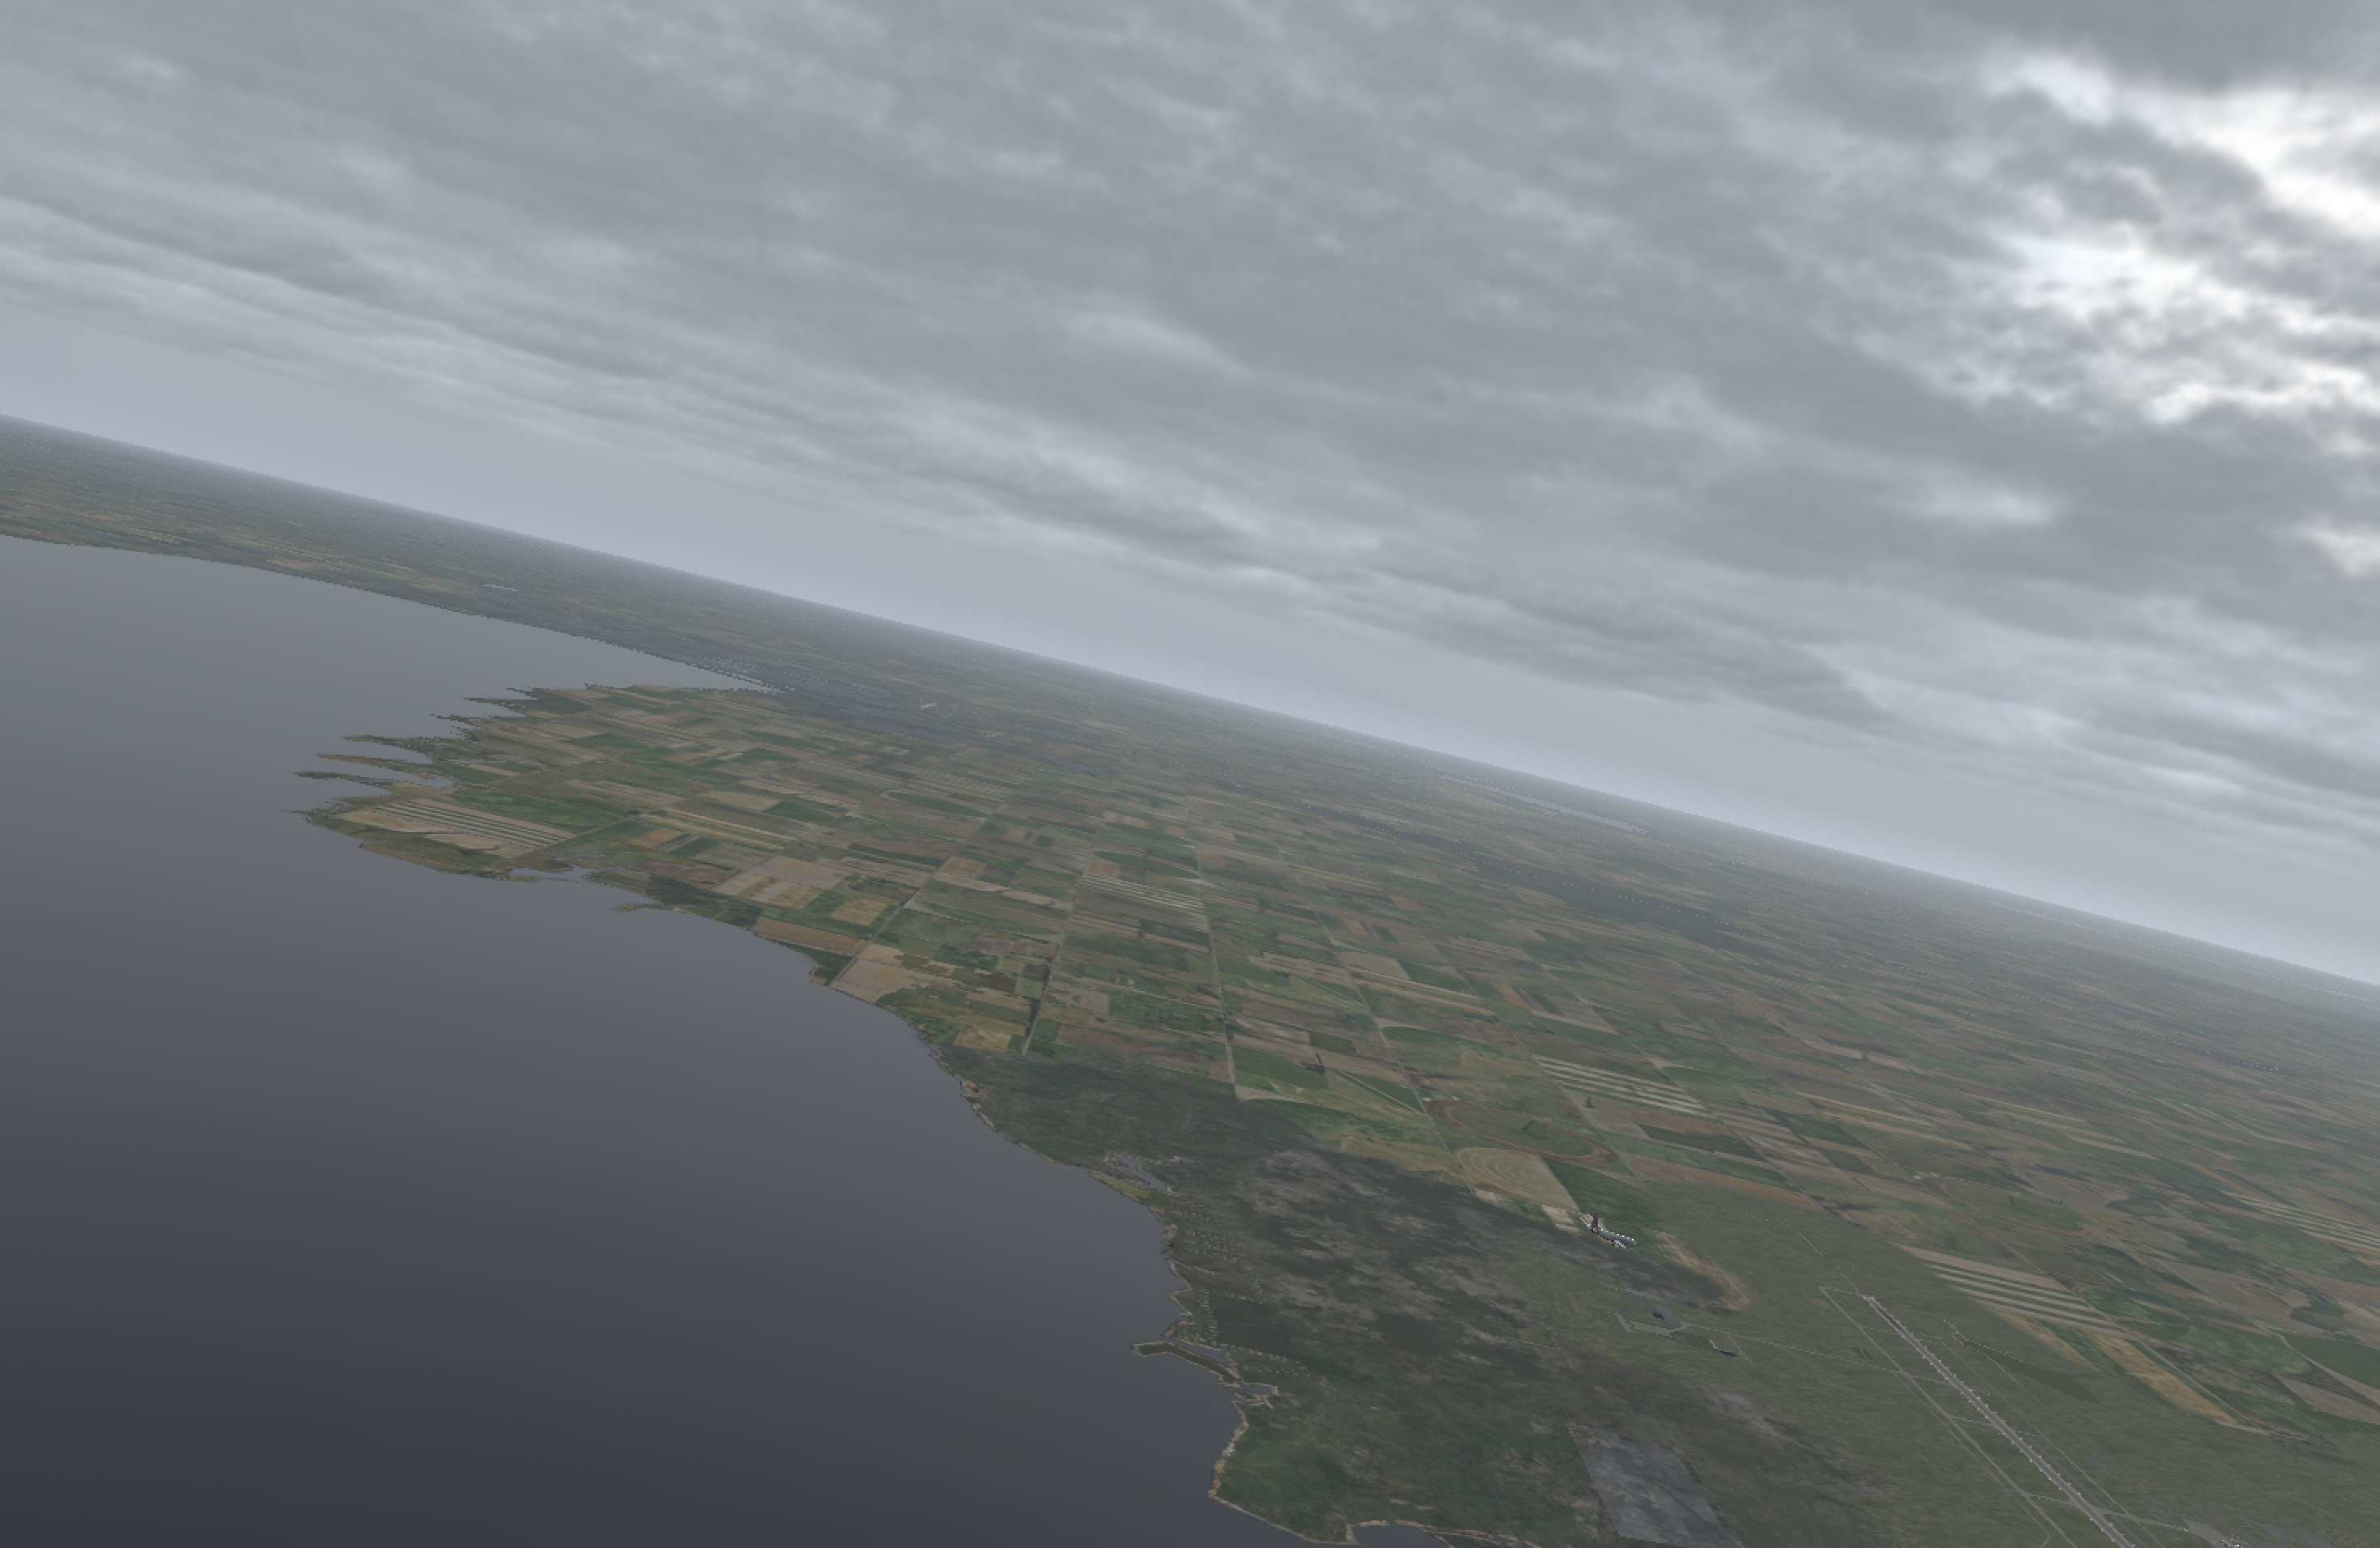aircraft: (1577, 1223, 1650, 1251)
